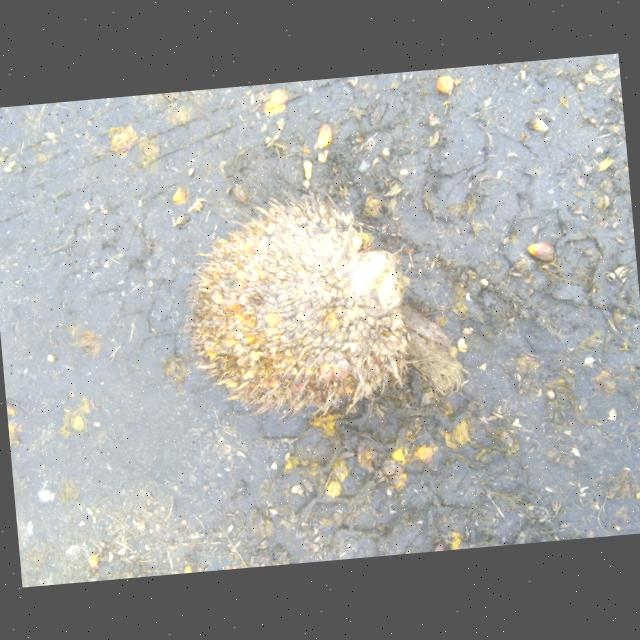Overripe: (191, 189, 417, 414)
